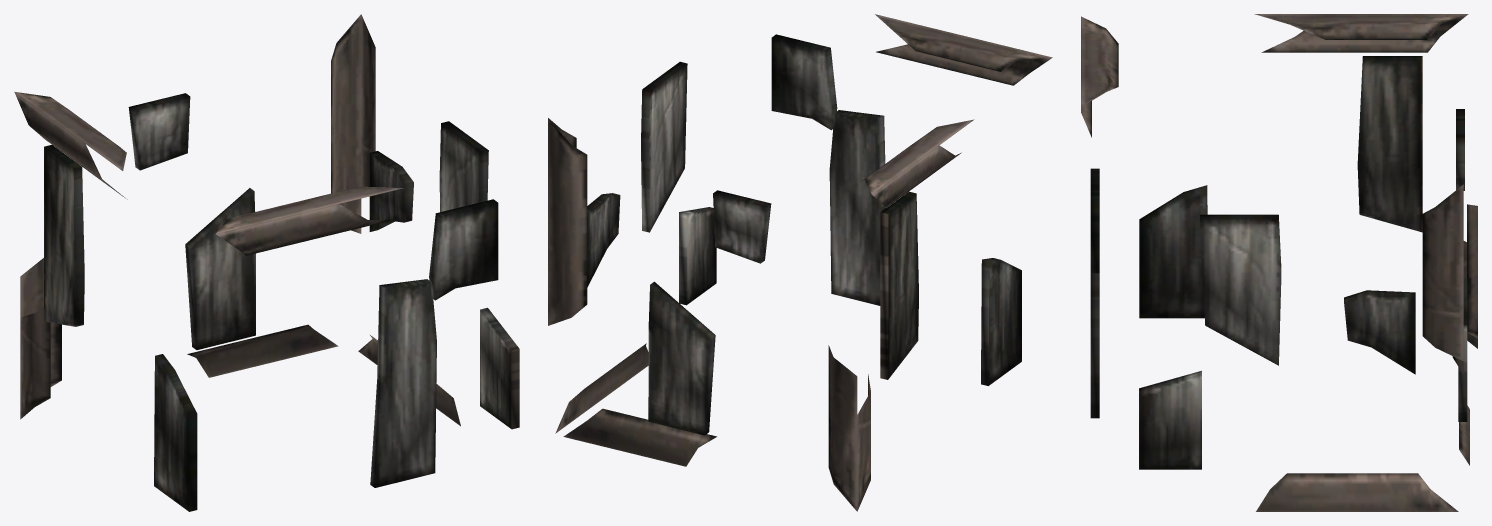
File: INST_SWORDLIGHT_CRATE-DESTR_ANI.fbx
3 views of the same model, side by side, from view 1: azimuth 30°, elevation 25°; view 2: azimuth 150°, elevation 25°; view 3: azimuth 270°, elevation 25° (orthographic). The views are drawn at different scales.
Parts seen in each view (by area): view 1: INST_SWORDLIGHT_CRATE-DESTR_ANI; view 2: INST_SWORDLIGHT_CRATE-DESTR_ANI; view 3: INST_SWORDLIGHT_CRATE-DESTR_ANI.
Part boxes in pixels (x1,y1,x2,y2): INST_SWORDLIGHT_CRATE-DESTR_ANI: (14,14,519,511); INST_SWORDLIGHT_CRATE-DESTR_ANI: (548,14,1052,511); INST_SWORDLIGHT_CRATE-DESTR_ANI: (1081,14,1477,511).
Size of the model in its own units: 7826 by 7352 by 7903.
2 materials, 2 textured.
